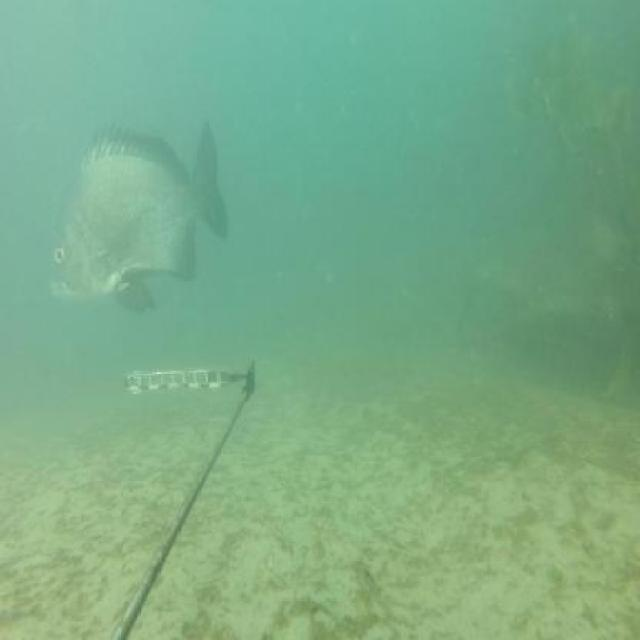acanthopagrus_palmaris: (48, 115, 230, 317)
